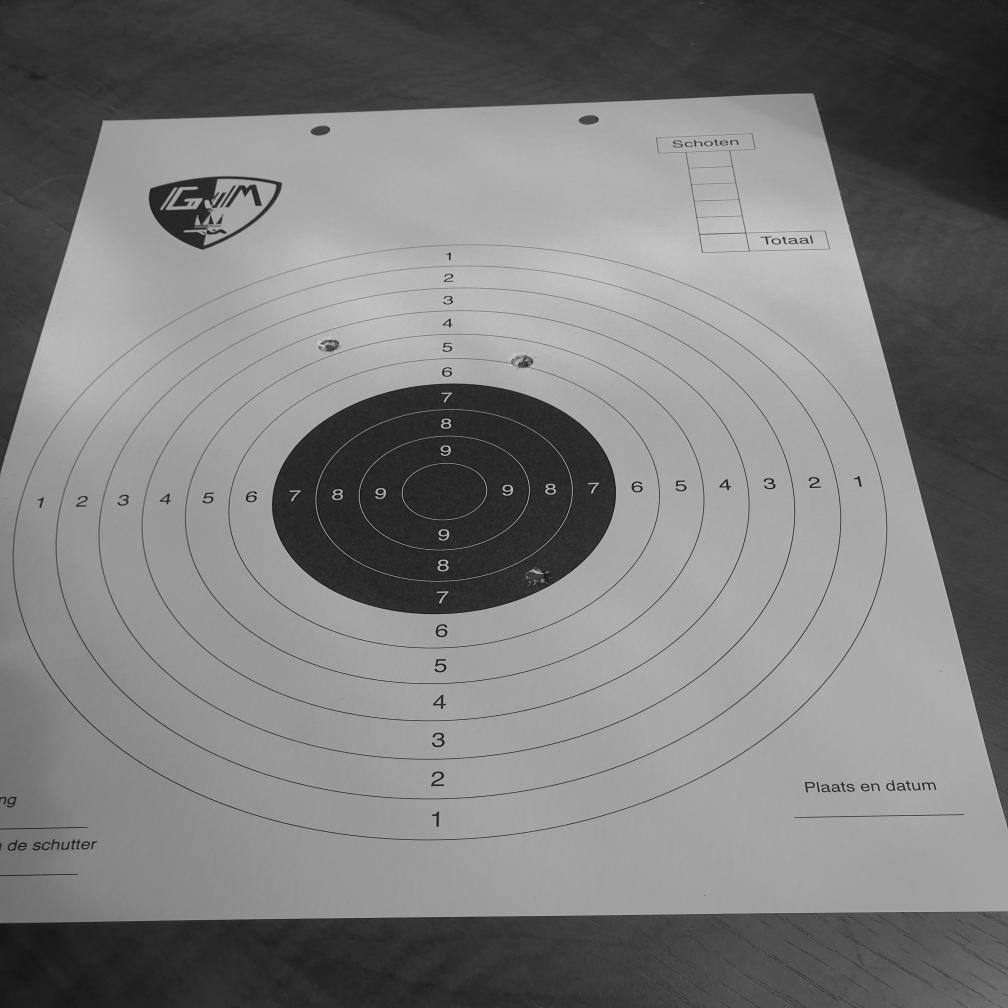4: (317, 336, 342, 357)
6: (507, 354, 538, 372)
7: (523, 568, 557, 589)
Target: (6, 238, 897, 848)
black_contour: (273, 383, 617, 616)
